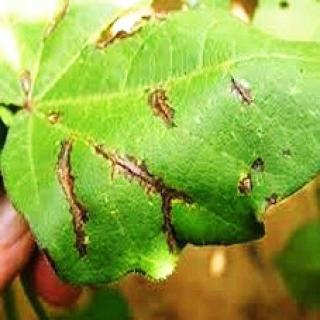blight: (14, 14, 320, 278)
